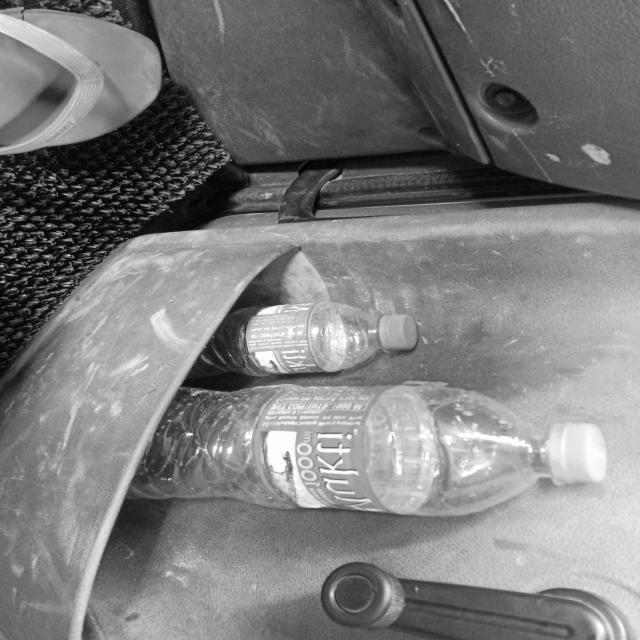bottle: (46, 374, 610, 520), (163, 304, 422, 377)
